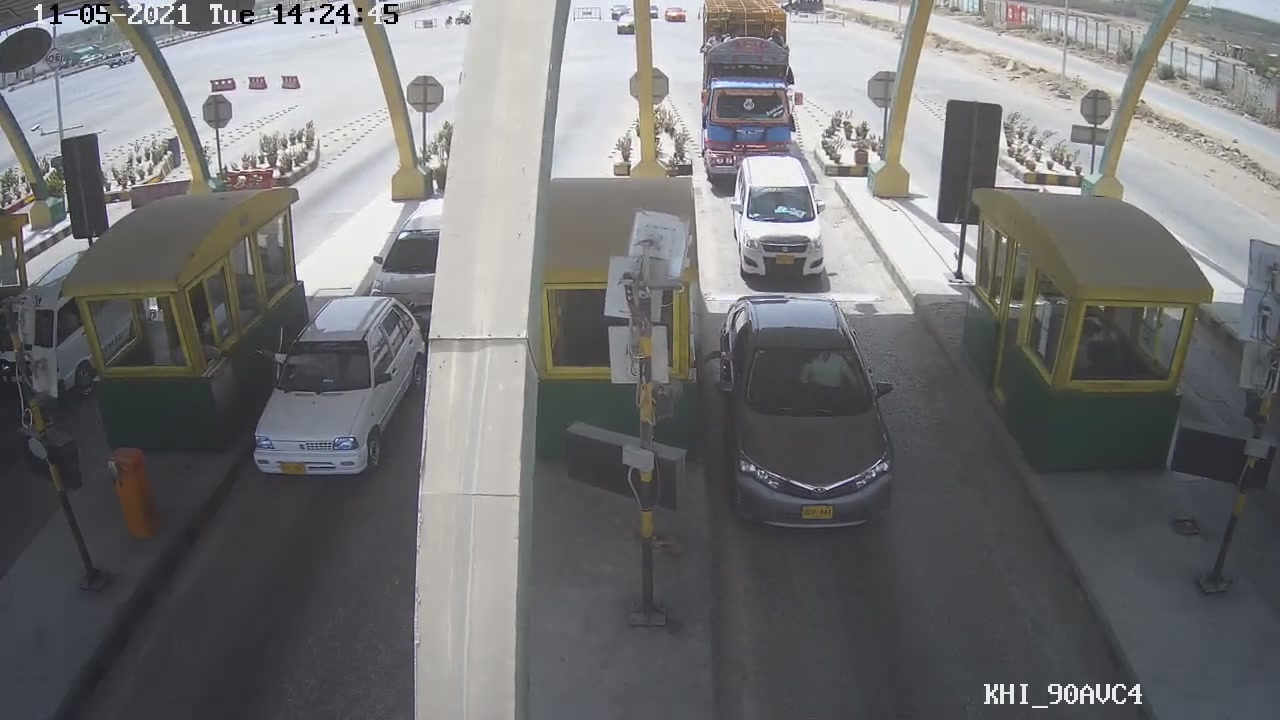F1: (704, 293, 903, 536), (728, 152, 835, 284)
